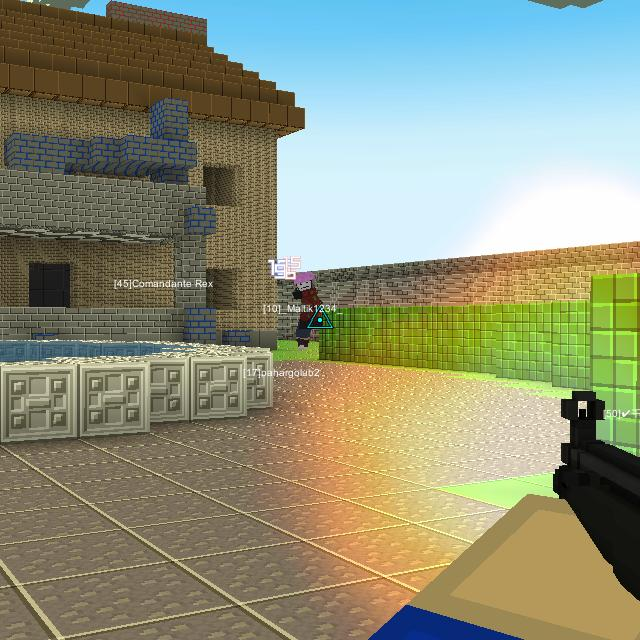enemy: (292, 273, 326, 328)
